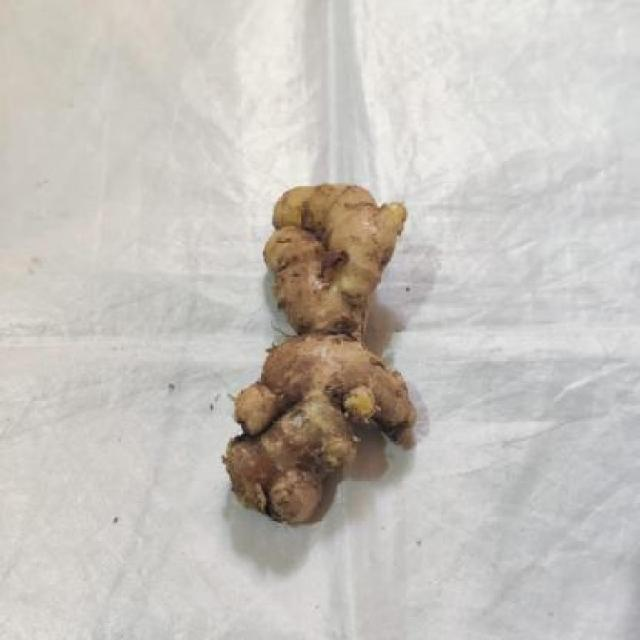Ginger: (224, 183, 418, 528)
